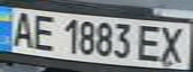1: (57, 16, 81, 54)
3: (112, 20, 136, 60)
8: (93, 19, 115, 57), (75, 18, 96, 56)
A: (6, 8, 39, 48)
E: (133, 21, 166, 63), (27, 11, 60, 52)
X: (157, 24, 190, 65)
